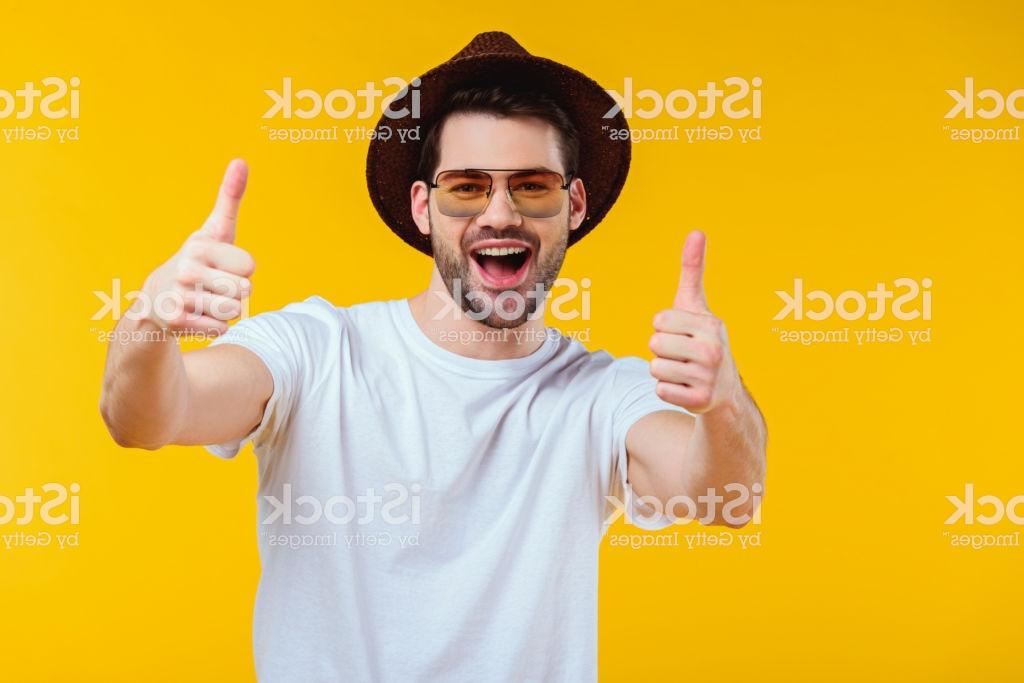thumbsup: (151, 155, 259, 345), (647, 226, 731, 414)
